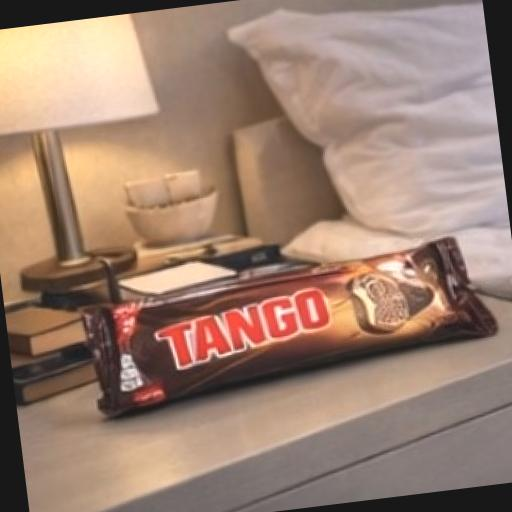tango: (49, 187, 512, 442)
